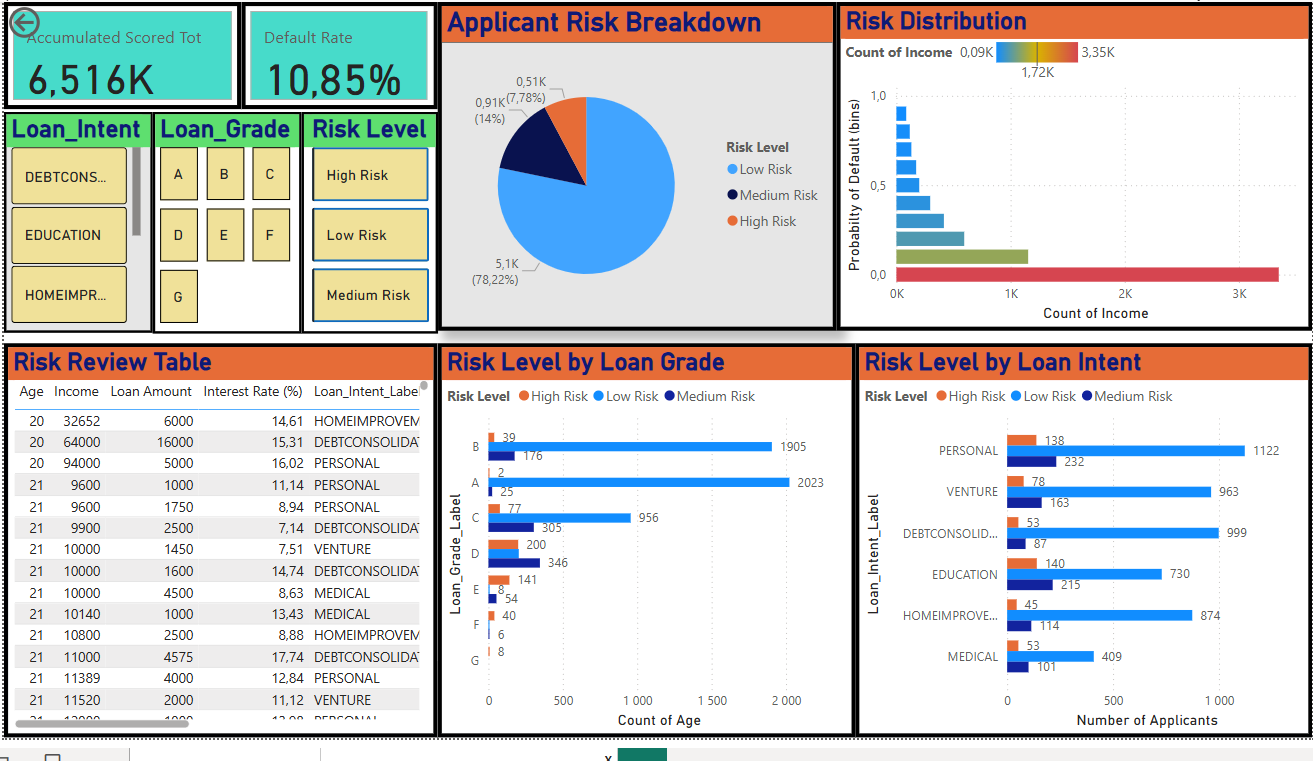

What the dashboard file says about the page in this screenshot:
{"tool":"powerbi","page":{"name":"Accumulative Credit Risk Dashboard","canvas":[1280,720],"ordinal":1},"visuals":[{"type":"cardVisual","fields":{"Data":["CountNonNull(saved_data.Age)"]},"box":[0,0,212.9,105.7],"z":0},{"type":"cardVisual","fields":{"Data":["saved_data.Default Rate"]},"box":[212.9,0,200,105.7],"z":1000},{"type":"pieChart","title":"Applicant Risk Breakdown","fields":{"Y":["CountNonNull(saved_data.Age)"],"Category":["saved_data.Risk Level"]},"box":[424.3,0,390,321.4],"z":2000},{"type":"clusteredBarChart","title":"Risk Level by Loan Intent","fields":{"Category":["LoanIntentMap.loan_intent_label"],"Series":["saved_data.Risk Level"],"Y":["CountNonNull(saved_data.Income)"]},"box":[832.9,334.3,447.1,385.7],"z":3000},{"type":"clusteredBarChart","title":"Risk Level by Loan Grade","fields":{"Series":["saved_data.Risk Level"],"Y":["CountNonNull(saved_data.Age)"],"Category":["LoanGradeMap.loan_grade_label"]},"box":[424.3,334.3,408.6,385.7],"z":4000},{"type":"clusteredBarChart","title":"Risk Distribution","fields":{"Category":["saved_data.Probabilty of Default (bins)"],"Y":["CountNonNull(saved_data.Income)"]},"box":[814.3,0,465.7,321.4],"z":5000},{"type":"tableEx","title":"Risk Review Table","fields":{"Values":["saved_data.Age","saved_data.Income","saved_data.Loan Amount","saved_data.Interest Rate (%)","LoanIntentMap.loan_intent_label","LoanGradeMap.loan_grade_label","saved_data.Probabilty of Default","saved_data.Risk Level","saved_data.Predicted Default (0/1)"]},"box":[0,334.3,424.3,385.7],"z":6000},{"type":"actionButton","box":[0,0,100,40],"z":7000},{"type":"advancedSlicerVisual","fields":{"Values":["LoanIntentMap.loan_intent_label"]},"box":[0,108,145.7,215.7],"z":8000},{"type":"advancedSlicerVisual","fields":{"Values":["LoanGradeMap.loan_grade_label"]},"box":[145,108,134.3,215.7],"z":9000},{"type":"advancedSlicerVisual","fields":{"Values":["saved_data.Risk Level"]},"box":[280,108,132.9,215.7],"z":10000}]}

Visuals, with their boxes in screenshot pixels (x1, y1, x2, y2), scaled from the page's 1280x720 canvas onto the 1313x761 screenshot:
cardVisual - CountNonNull(saved_data.Age): rect(0, 0, 218, 112)
cardVisual - saved_data.Default Rate: rect(218, 0, 424, 112)
"Applicant Risk Breakdown" pieChart: rect(435, 0, 835, 340)
"Risk Level by Loan Intent" clusteredBarChart: rect(854, 353, 1312, 760)
"Risk Level by Loan Grade" clusteredBarChart: rect(435, 353, 854, 760)
"Risk Distribution" clusteredBarChart: rect(835, 0, 1312, 340)
"Risk Review Table" tableEx: rect(0, 353, 435, 760)
actionButton: rect(0, 0, 103, 42)
advancedSlicerVisual - LoanIntentMap.loan_intent_label: rect(0, 114, 149, 342)
advancedSlicerVisual - LoanGradeMap.loan_grade_label: rect(149, 114, 287, 342)
advancedSlicerVisual - saved_data.Risk Level: rect(287, 114, 424, 342)
